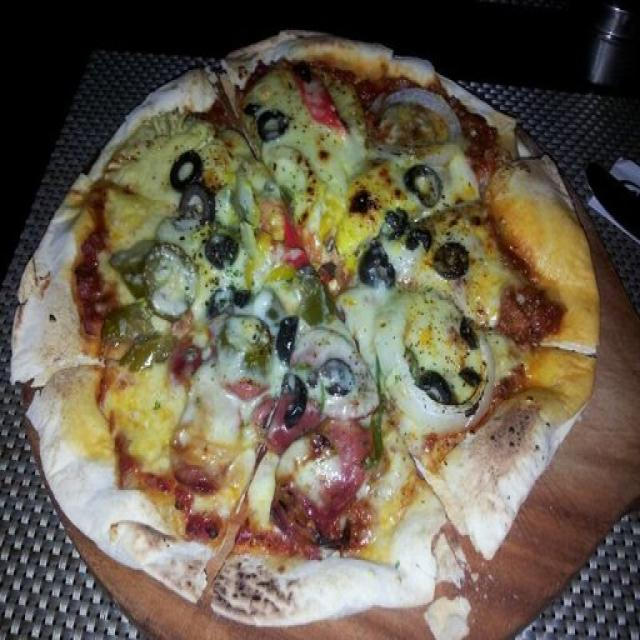Green Pepper: (136, 236, 202, 306), (214, 170, 254, 230), (114, 243, 165, 289), (124, 330, 175, 372), (296, 266, 332, 324), (368, 357, 385, 465), (103, 301, 155, 336), (229, 311, 266, 352), (249, 278, 279, 326), (402, 344, 424, 380), (276, 185, 300, 213)
Olives: (357, 240, 405, 289), (175, 156, 209, 223), (407, 159, 442, 207), (430, 240, 468, 278), (314, 365, 357, 393), (404, 223, 440, 256), (207, 232, 238, 270), (256, 107, 287, 143), (284, 374, 306, 422), (278, 312, 298, 362), (422, 367, 450, 400), (378, 205, 409, 234), (210, 285, 253, 304), (458, 313, 476, 339), (459, 366, 481, 384), (295, 60, 315, 76)
Onions: (377, 297, 419, 419), (391, 85, 472, 142), (406, 397, 475, 440), (472, 331, 495, 422)
Pepperoni: (279, 418, 366, 528), (173, 331, 267, 402), (261, 389, 320, 455)
Pizza: (11, 32, 600, 637)
Red Pepper: (300, 78, 351, 136), (280, 218, 308, 268)
